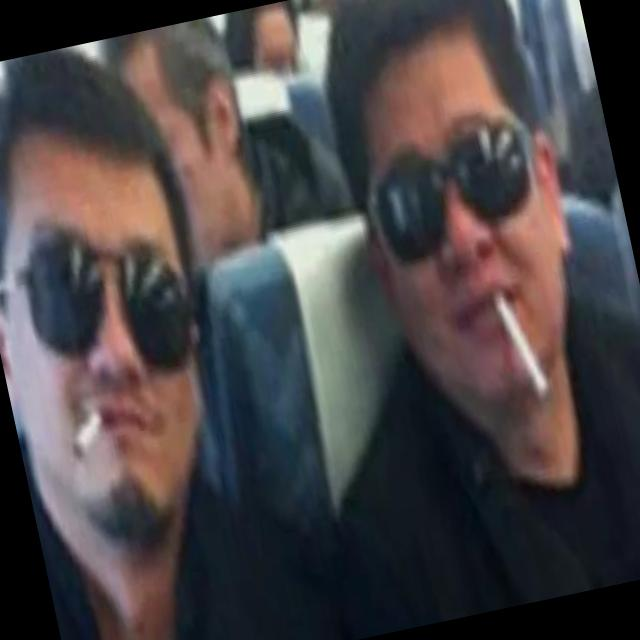smoke: (463, 244, 571, 426), (41, 368, 138, 502)
